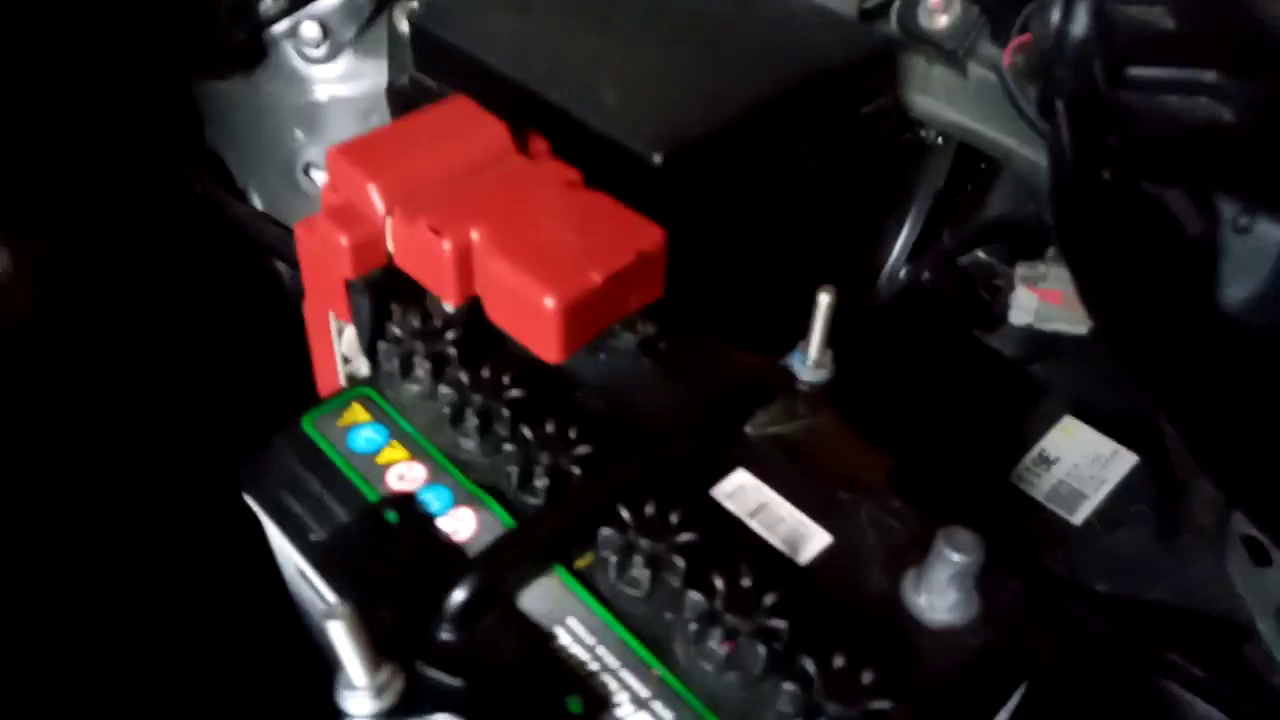battery: (282, 260, 1017, 720)
neg_disconnected: (872, 466, 1029, 646)
pos_connected: (268, 87, 698, 411)
